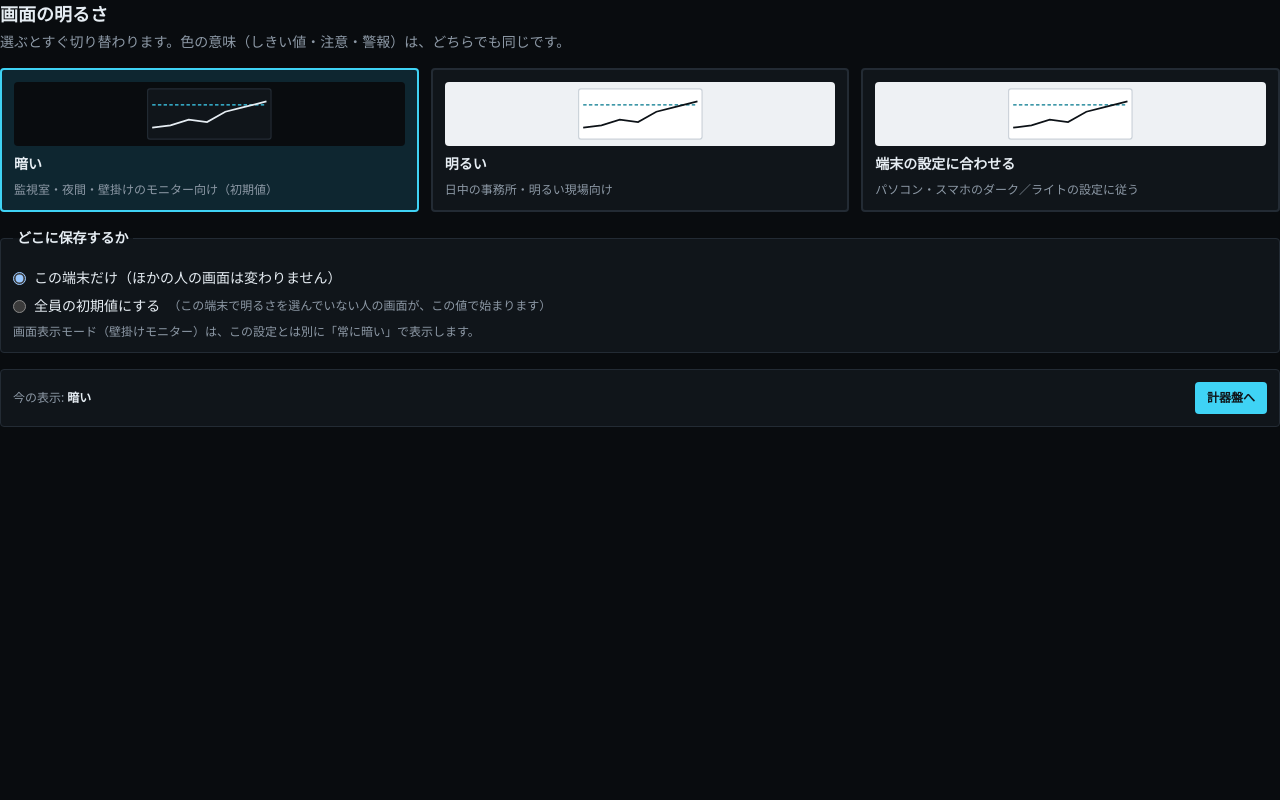
Test: DisplaySettingsPanel（画面の明るさ） › 「全員の初期値にする」で選ぶと、サーバーに保存し、この端末の選択は消して、その値に従う
The image size is (1280, 800).
Click the radio button labelled "全員の初期値にする （この端末で明るさを選んでいない人の画面が、この値で始まります）": (20, 306) 13,300 -> 26,312
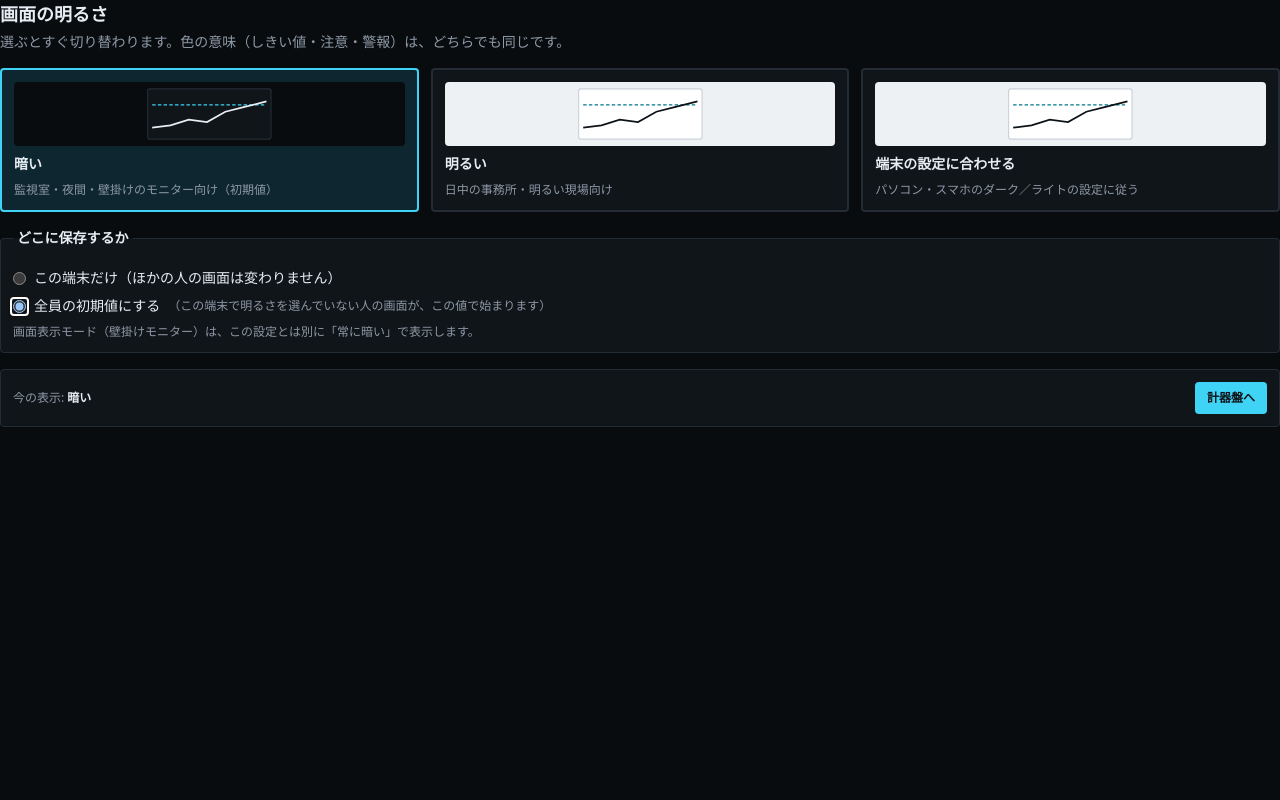
Click the radio button labelled "明るい 日中の事務所・明るい現場向け": (640, 140) 431,68 -> 849,212
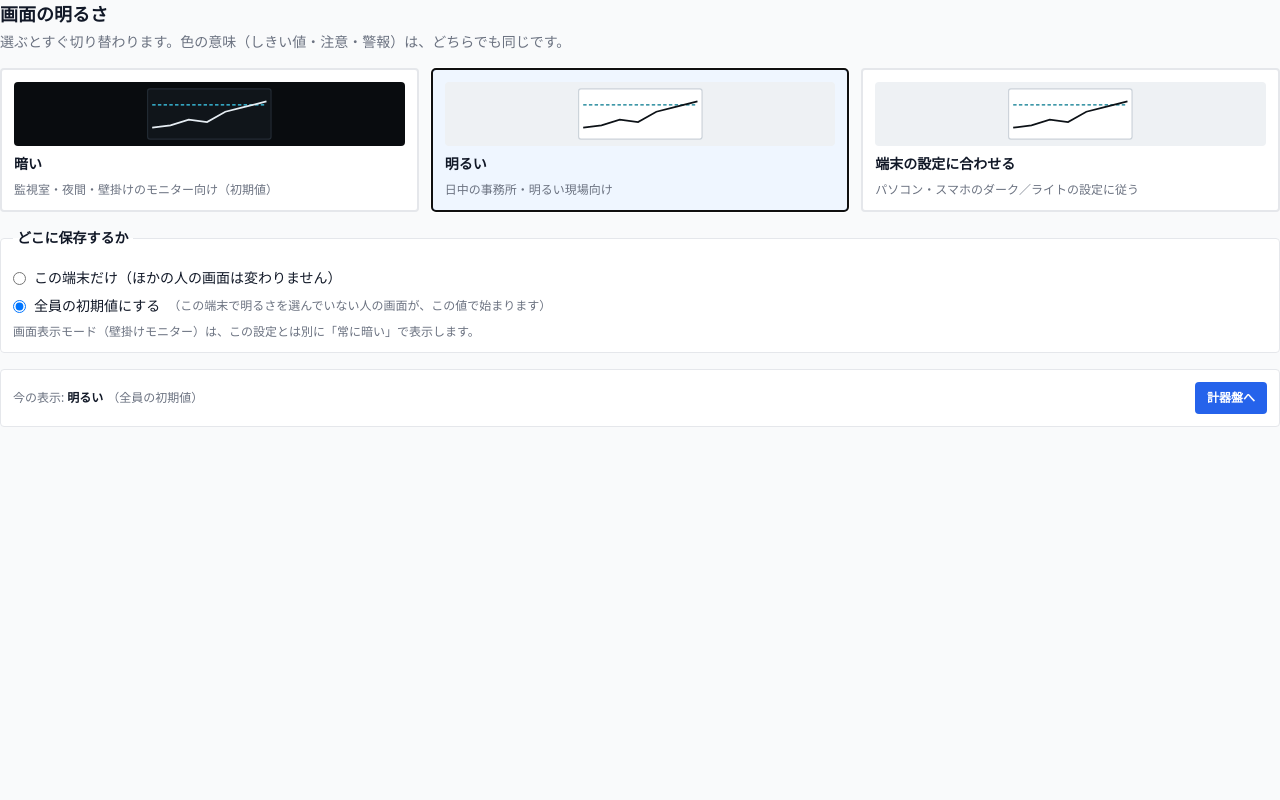
Expected: the text "（全員の初期値）" is shown, 107,389 -> 203,406
